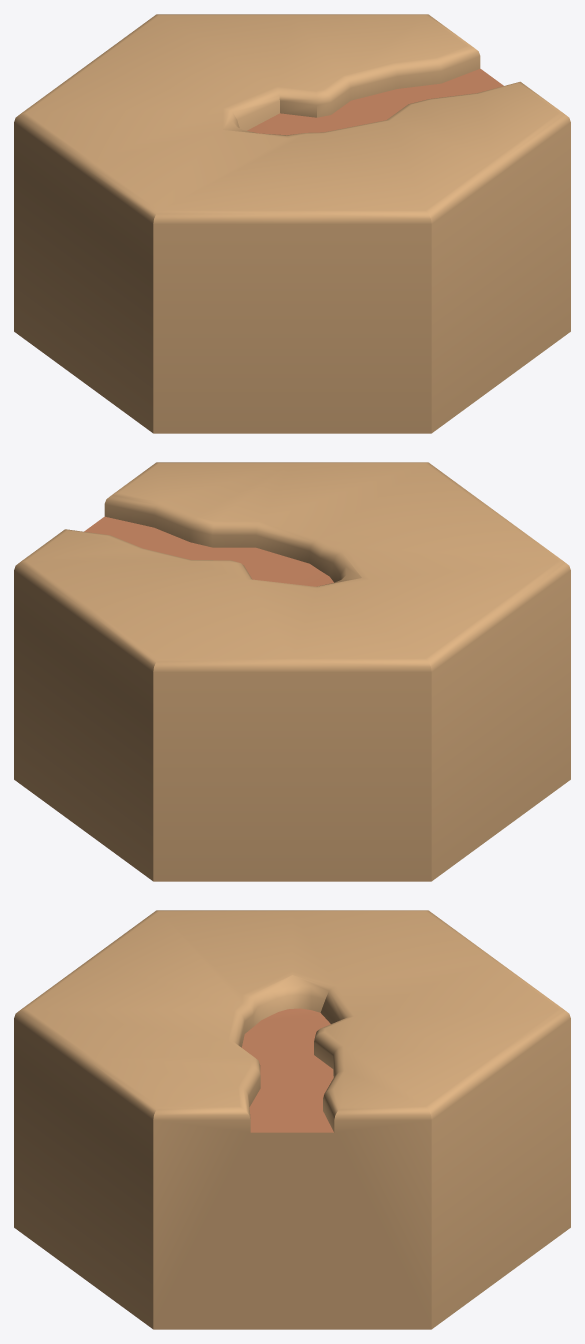
Rendered from hex_sand_roadA.glb.
3 renders of one model, top to bottom at view 1: azimuth 30°, elevation 25°; view 2: azimuth 150°, elevation 25°; view 3: azimuth 270°, elevation 25°, orthographic.
Visible parts, largest first — view 1: hex_sand_roadA; view 2: hex_sand_roadA; view 3: hex_sand_roadA.
Boxes of the visible parts, x1=… form: hex_sand_roadA: x1=14, y1=14, x2=570, y2=433; hex_sand_roadA: x1=14, y1=462, x2=570, y2=881; hex_sand_roadA: x1=14, y1=910, x2=570, y2=1329.
Size of the model in its own units: 2 by 1 by 2.31.
